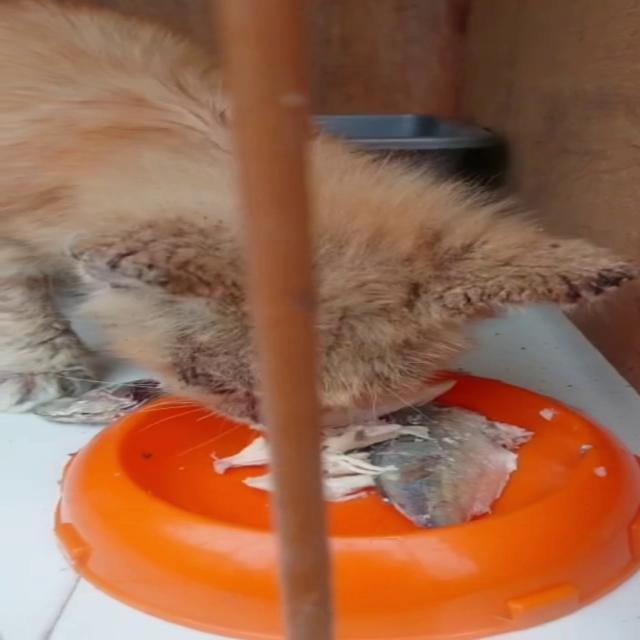ghe: (399, 217, 634, 347), (42, 220, 236, 330)
